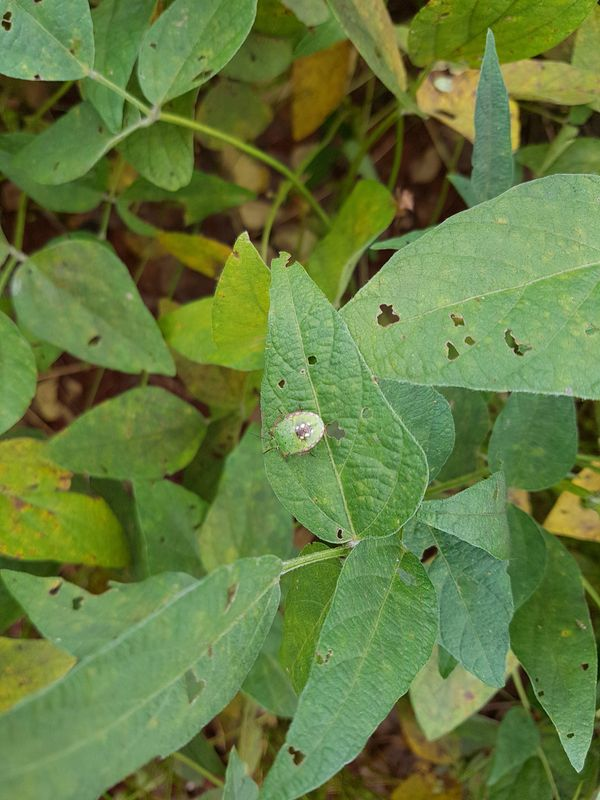Nezara_viridula_ninfa: (244, 394, 342, 473)
